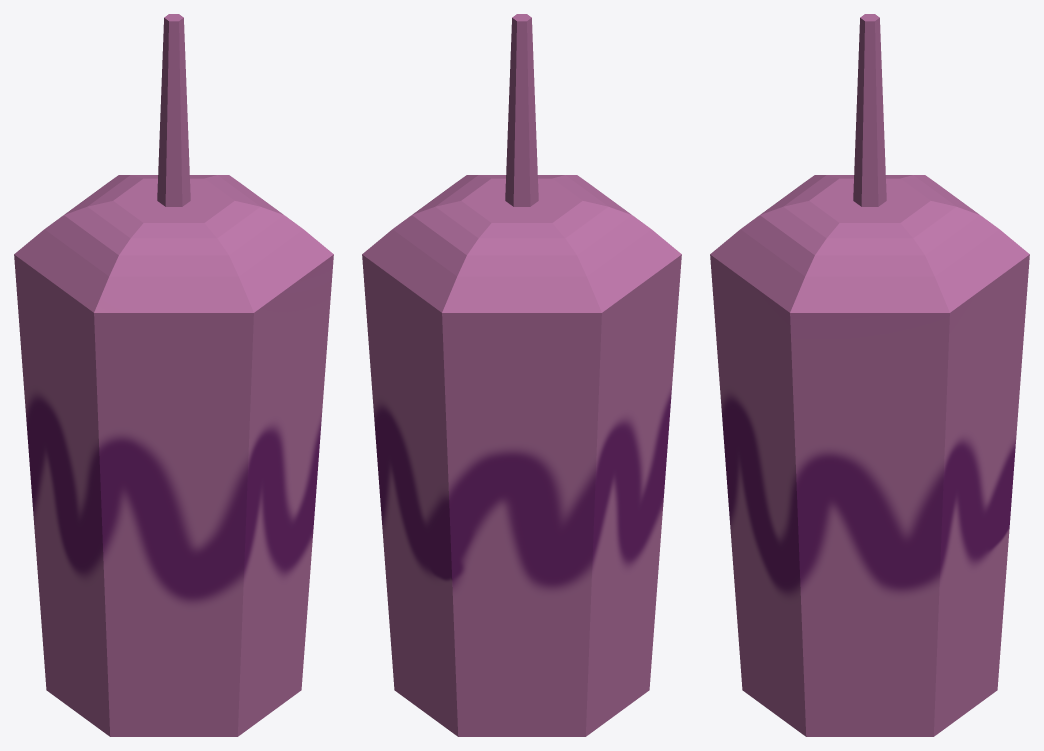
Rendered from milkshake.gltf.
3 renders of one model, left to right at view 1: azimuth 30°, elevation 25°; view 2: azimuth 150°, elevation 25°; view 3: azimuth 270°, elevation 25°, orthographic.
Parts seen in each view (by area): view 1: Cylinder; view 2: Cylinder; view 3: Cylinder.
Part boxes in pixels (x1,y1,x2,y2): Cylinder: [14, 14, 333, 736]; Cylinder: [362, 14, 681, 736]; Cylinder: [710, 14, 1029, 736].
Size of the model in its own units: 0.5075 by 1.36 by 0.586.
